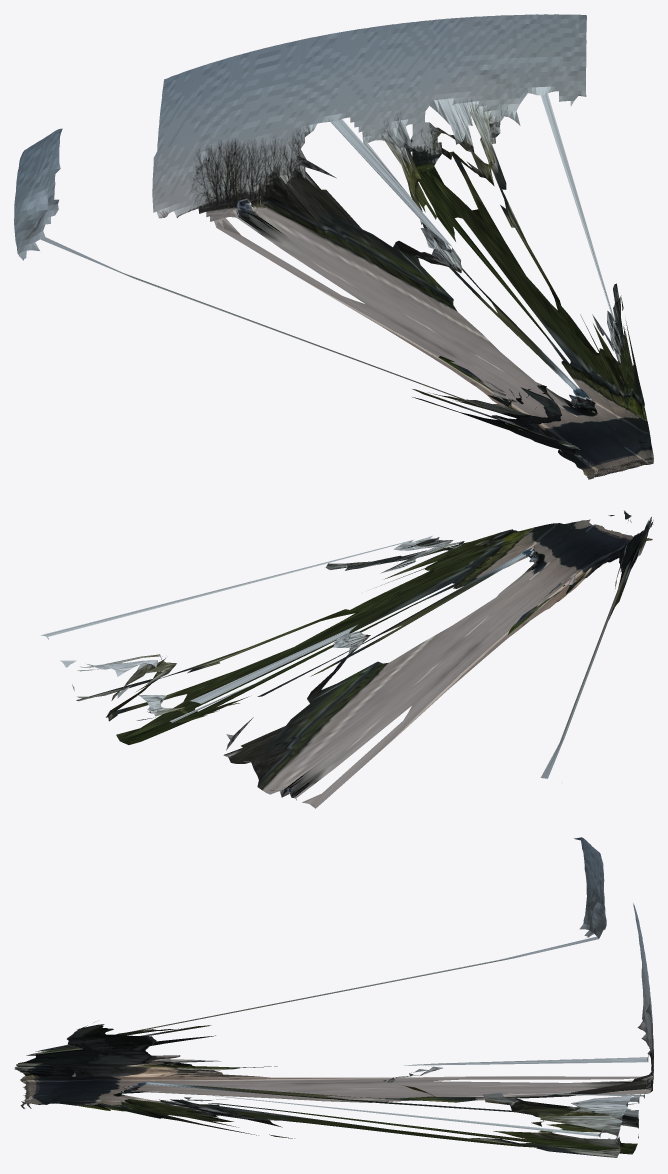
3 renders of one model, top to bottom at view 1: azimuth 30°, elevation 25°; view 2: azimuth 150°, elevation 25°; view 3: azimuth 270°, elevation 25°, orthographic. The views are drawn at different scales.
Parts seen in each view (by area): view 1: defaultobject; view 2: defaultobject; view 3: defaultobject.
Part boxes in pixels (box(x1,y1,x2,y2)): defaultobject: box(14, 14, 653, 479); defaultobject: box(41, 510, 653, 808); defaultobject: box(14, 837, 653, 1157).
Size of the model in its own units: 40.98 by 11.69 by 45.06.
1 material, 1 textured.
